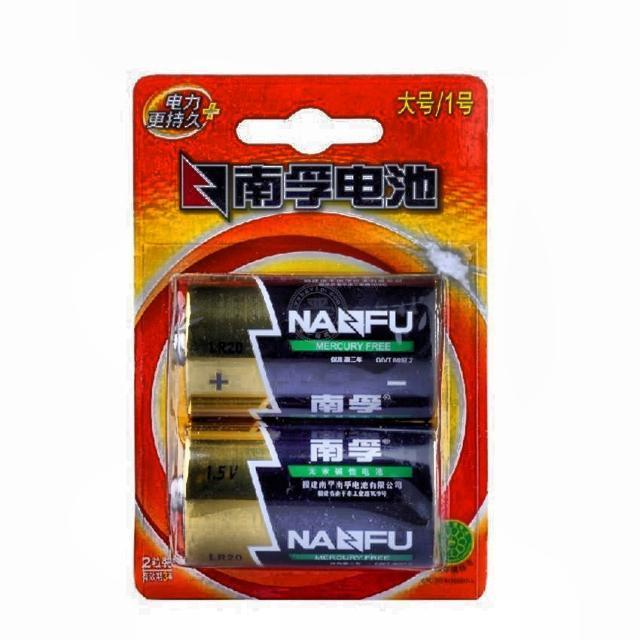battery: (178, 277, 438, 567)
